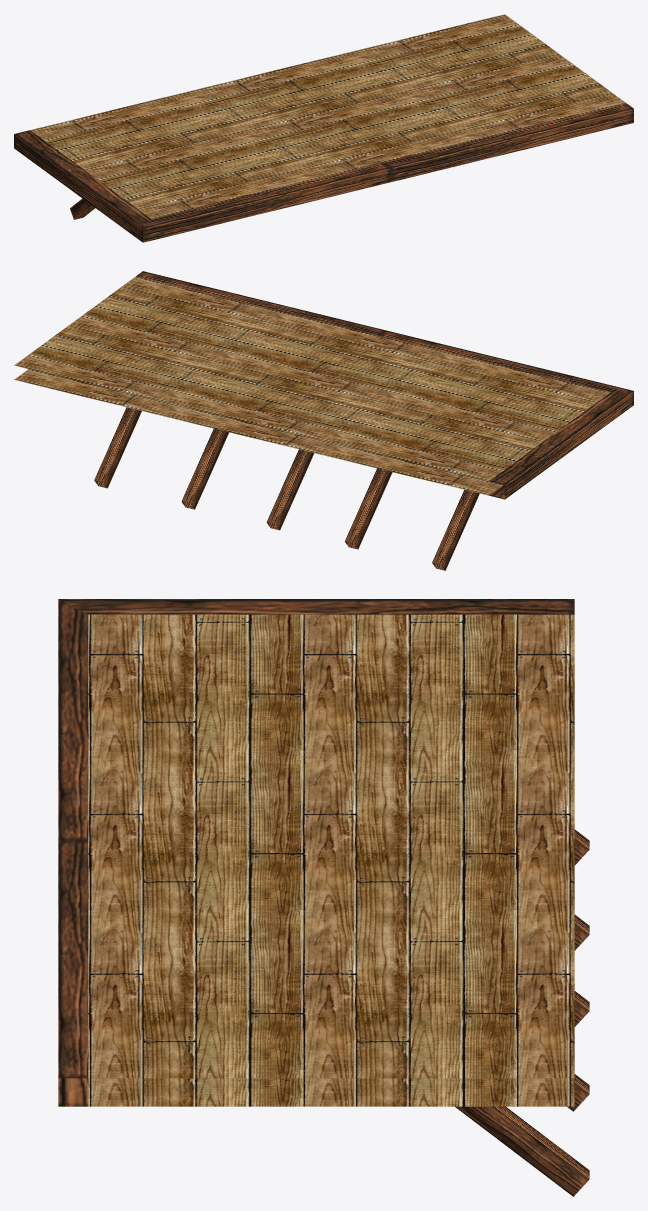
File: LAKETOWN_WAREHOUSE3_PS_WH3_PLATFORM38387__GX.fbx
3 views of the same model, one above another, from view 1: azimuth 30°, elevation 25°; view 2: azimuth 150°, elevation 25°; view 3: azimuth 270°, elevation 25° (orthographic). The views are drawn at different scales.
Parts seen in each view (by area): view 1: LAKETOWN_WAREHOUSE3_PS_WH3_PLATFORM38387__GX; view 2: LAKETOWN_WAREHOUSE3_PS_WH3_PLATFORM38387__GX; view 3: LAKETOWN_WAREHOUSE3_PS_WH3_PLATFORM38387__GX.
Boxes of the visible parts, box(x1,y1,x2,y2) form: LAKETOWN_WAREHOUSE3_PS_WH3_PLATFORM38387__GX: box(14, 14, 633, 242); LAKETOWN_WAREHOUSE3_PS_WH3_PLATFORM38387__GX: box(14, 271, 633, 570); LAKETOWN_WAREHOUSE3_PS_WH3_PLATFORM38387__GX: box(58, 599, 589, 1196).
Bounding box in the file's own units: 90000 × 17569 × 42156.
Materials: 3 (3 with a texture image).
